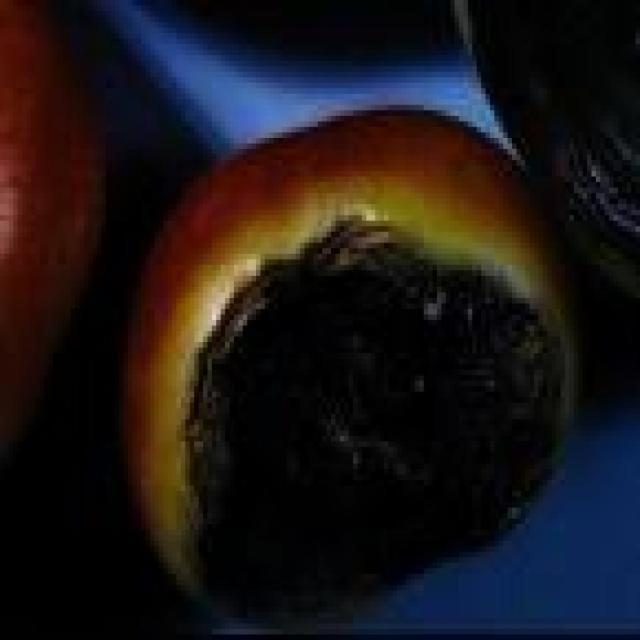Blossom End Rot Fruit: (112, 83, 368, 270)
